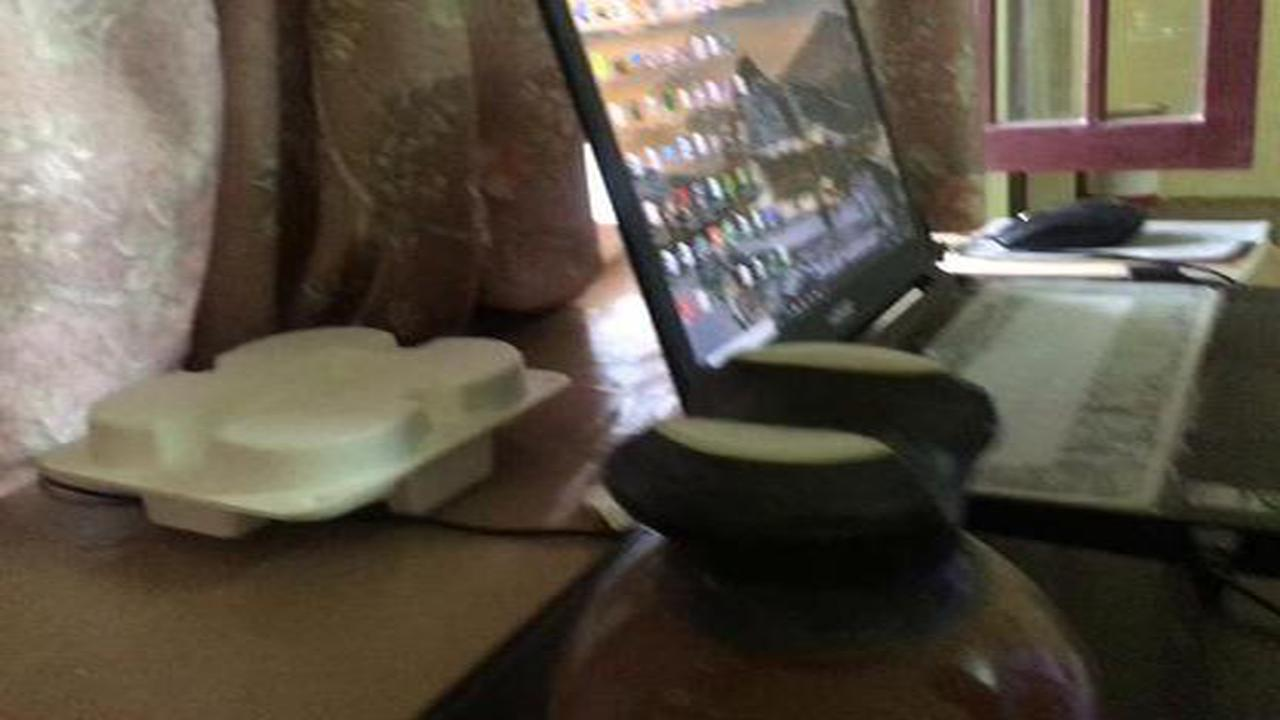insulator_pin: (554, 345, 1117, 714)
